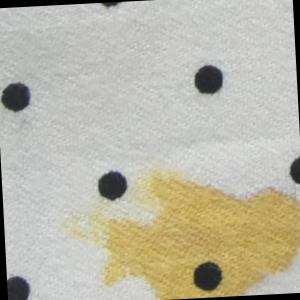Oil Stain: (94, 161, 300, 300)
